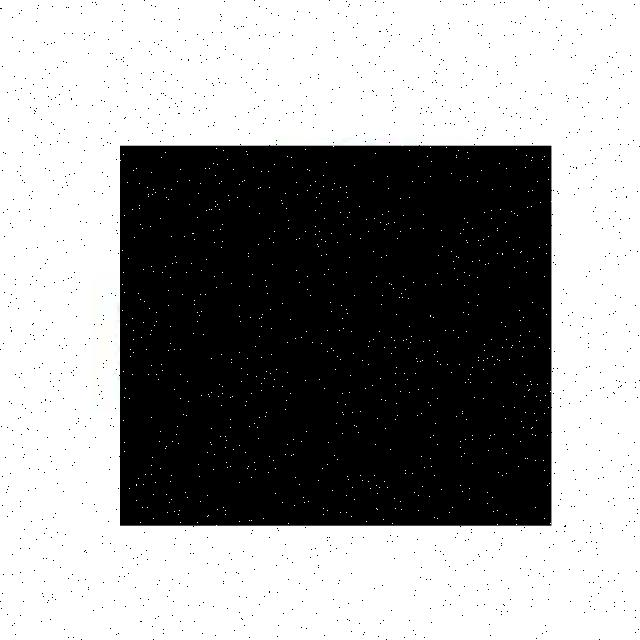Minced_Meat: (122, 147, 554, 527)
